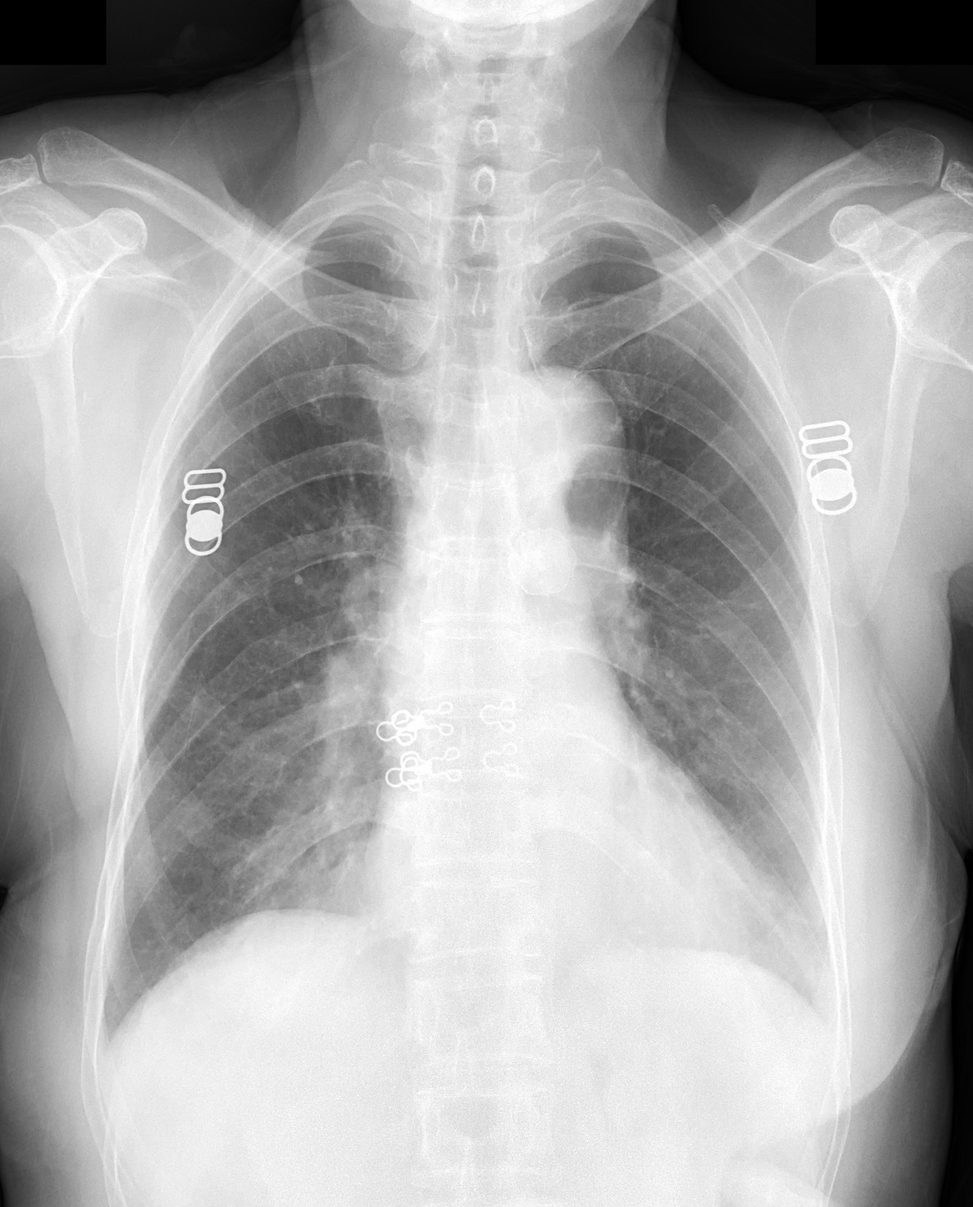Aortic enlargement: (481, 367, 628, 514)
Cardiomegaly: (363, 820, 768, 971)
Pleural thickening: (298, 212, 414, 245), (547, 221, 601, 254)
